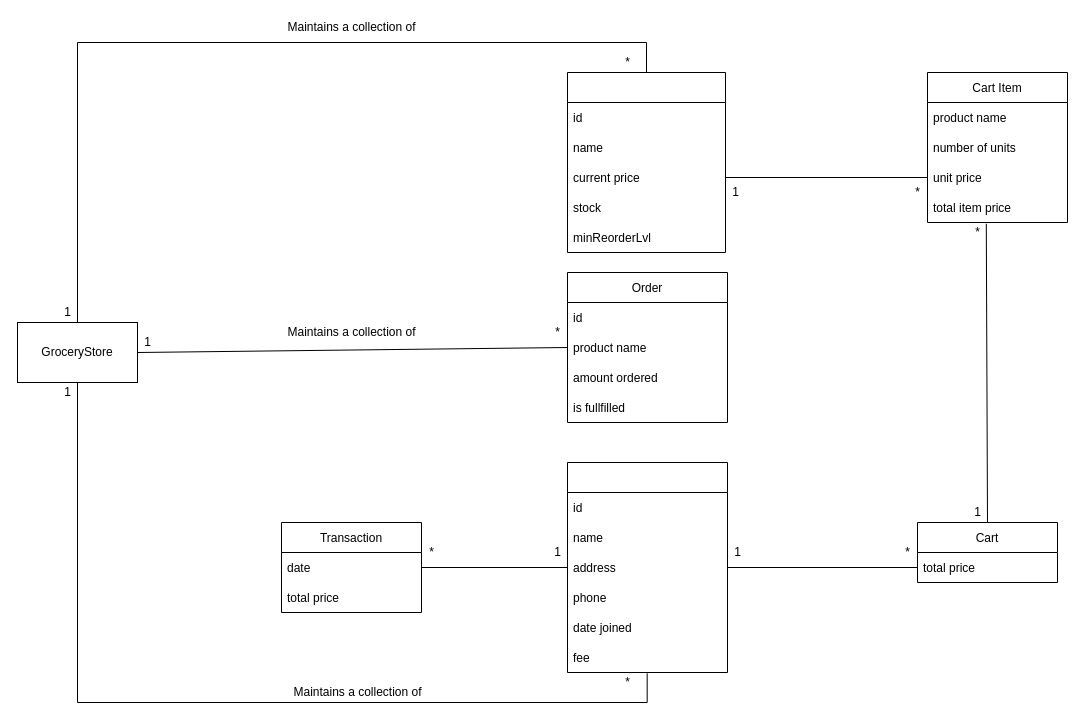
Some shapes in this 1085 by 721 pixel diagram are drawn without their labels. The box of each missing label's shape, as (x1, y1, x2, y2) in pixels:
Member: (566, 462, 728, 672)
Product: (566, 72, 726, 252)
